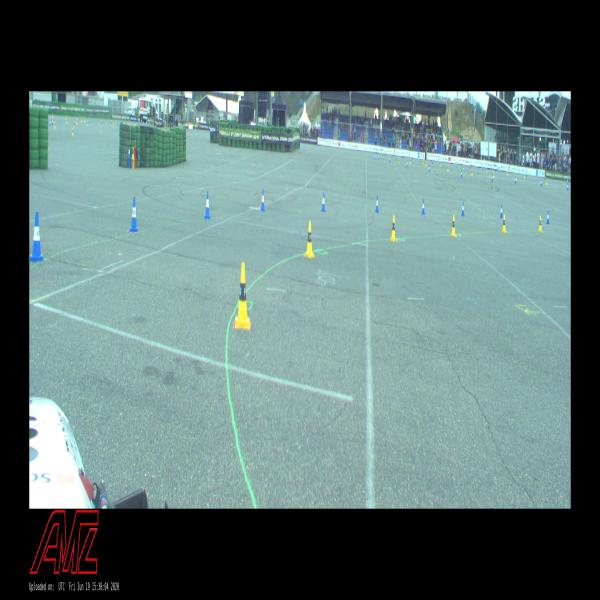blue_cone: (29, 212, 45, 261), (130, 197, 138, 231), (204, 192, 211, 218), (260, 189, 266, 211), (322, 193, 326, 212), (375, 196, 379, 212), (546, 211, 550, 224), (500, 205, 503, 218), (422, 199, 424, 214), (462, 202, 464, 216)
yellow_cone: (235, 263, 250, 329), (305, 221, 315, 258), (391, 216, 396, 242), (451, 215, 456, 236), (502, 215, 506, 232), (538, 216, 542, 231)
